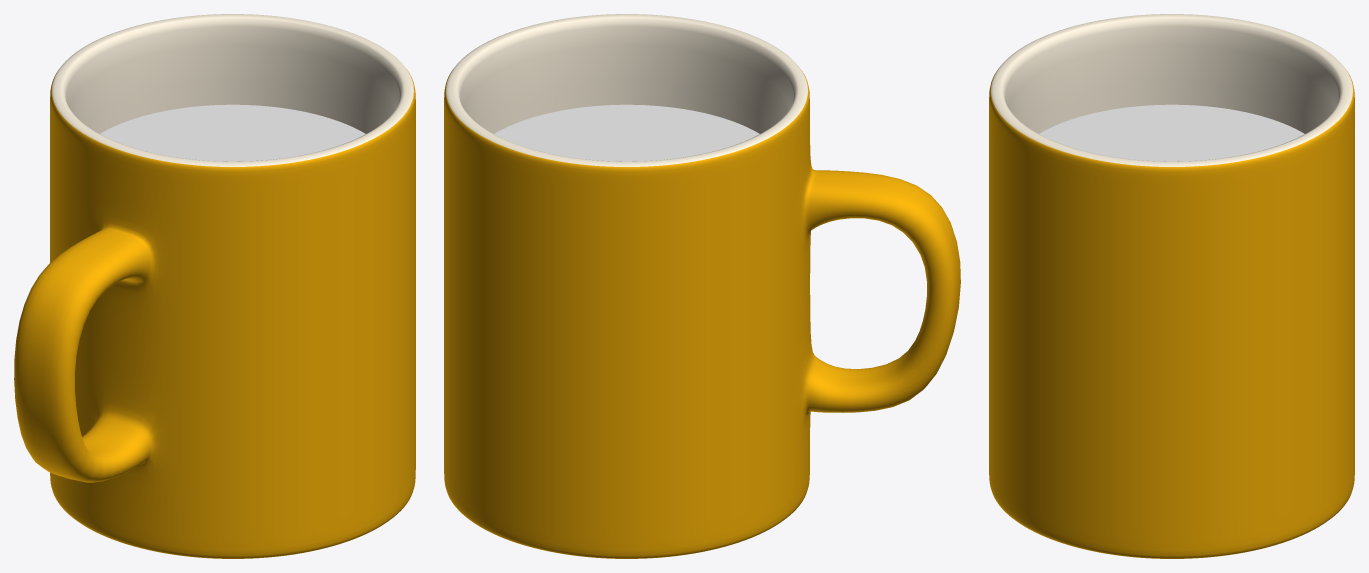
The model's file is FeelToasterMug.fbx.
3 views of the same model, side by side, from view 1: azimuth 30°, elevation 25°; view 2: azimuth 150°, elevation 25°; view 3: azimuth 270°, elevation 25° (orthographic).
Parts seen in each view (by area): view 1: Mug, Mug_Inside; view 2: Mug, Mug_Inside; view 3: Mug, Mug_Inside.
Part boxes in pixels (<box>): Mug: <box>14,14,415,558</box>; Mug_Inside: <box>100,104,365,161</box>; Mug: <box>444,14,960,558</box>; Mug_Inside: <box>494,104,759,161</box>; Mug: <box>989,14,1354,558</box>; Mug_Inside: <box>1039,104,1304,161</box>.
Size of the model in its own units: 274 by 240 by 202.
